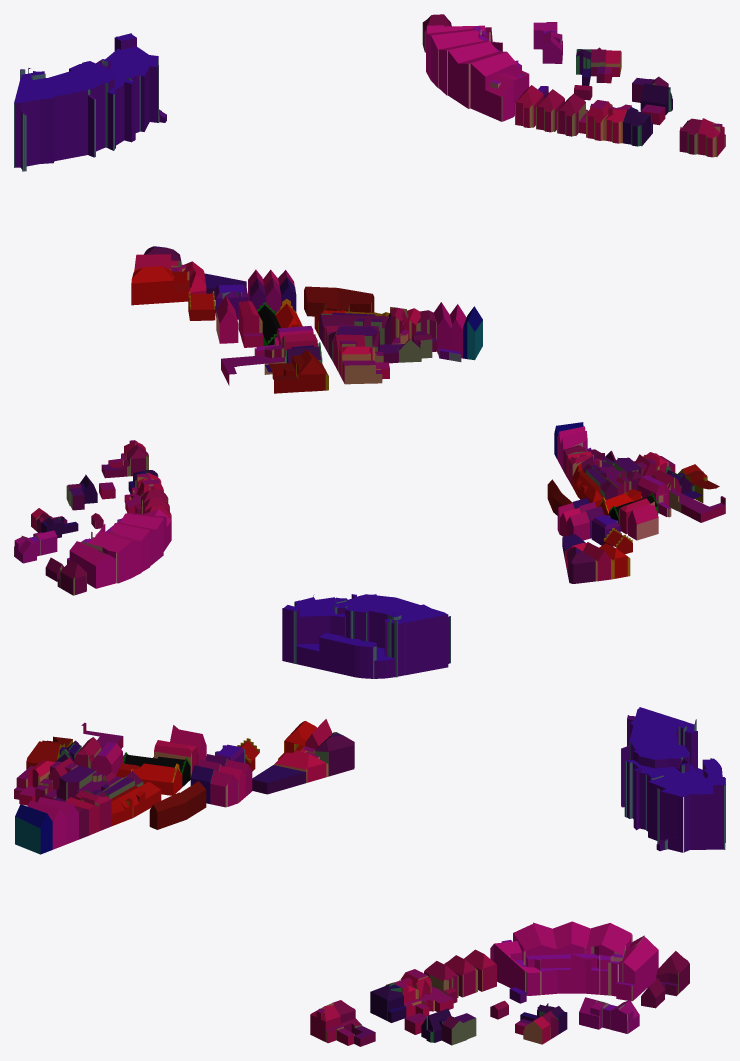
Rendered from buildings_11_9.glb.
The picture shows the model from 3 angles, top to bottom: view 1: azimuth 30°, elevation 25°; view 2: azimuth 150°, elevation 25°; view 3: azimuth 270°, elevation 25°; orthographic projection. The views are drawn at different scales.
Visible parts, largest first — view 1: buildings_11_9; view 2: buildings_11_9; view 3: buildings_11_9.
Part boxes in pixels (left/top/right/bottom): buildings_11_9: left=14, top=14, right=725, bottom=393; buildings_11_9: left=14, top=422, right=725, bottom=678; buildings_11_9: left=14, top=707, right=725, bottom=1046.
Bounding box in the file's own units: 218 × 23.12 × 215.
